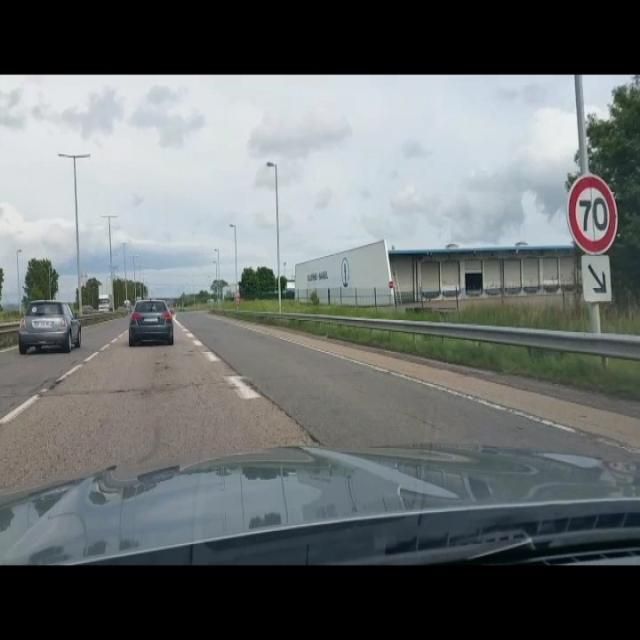side_right: (582, 256, 612, 301)
speed_70: (566, 174, 618, 255)
